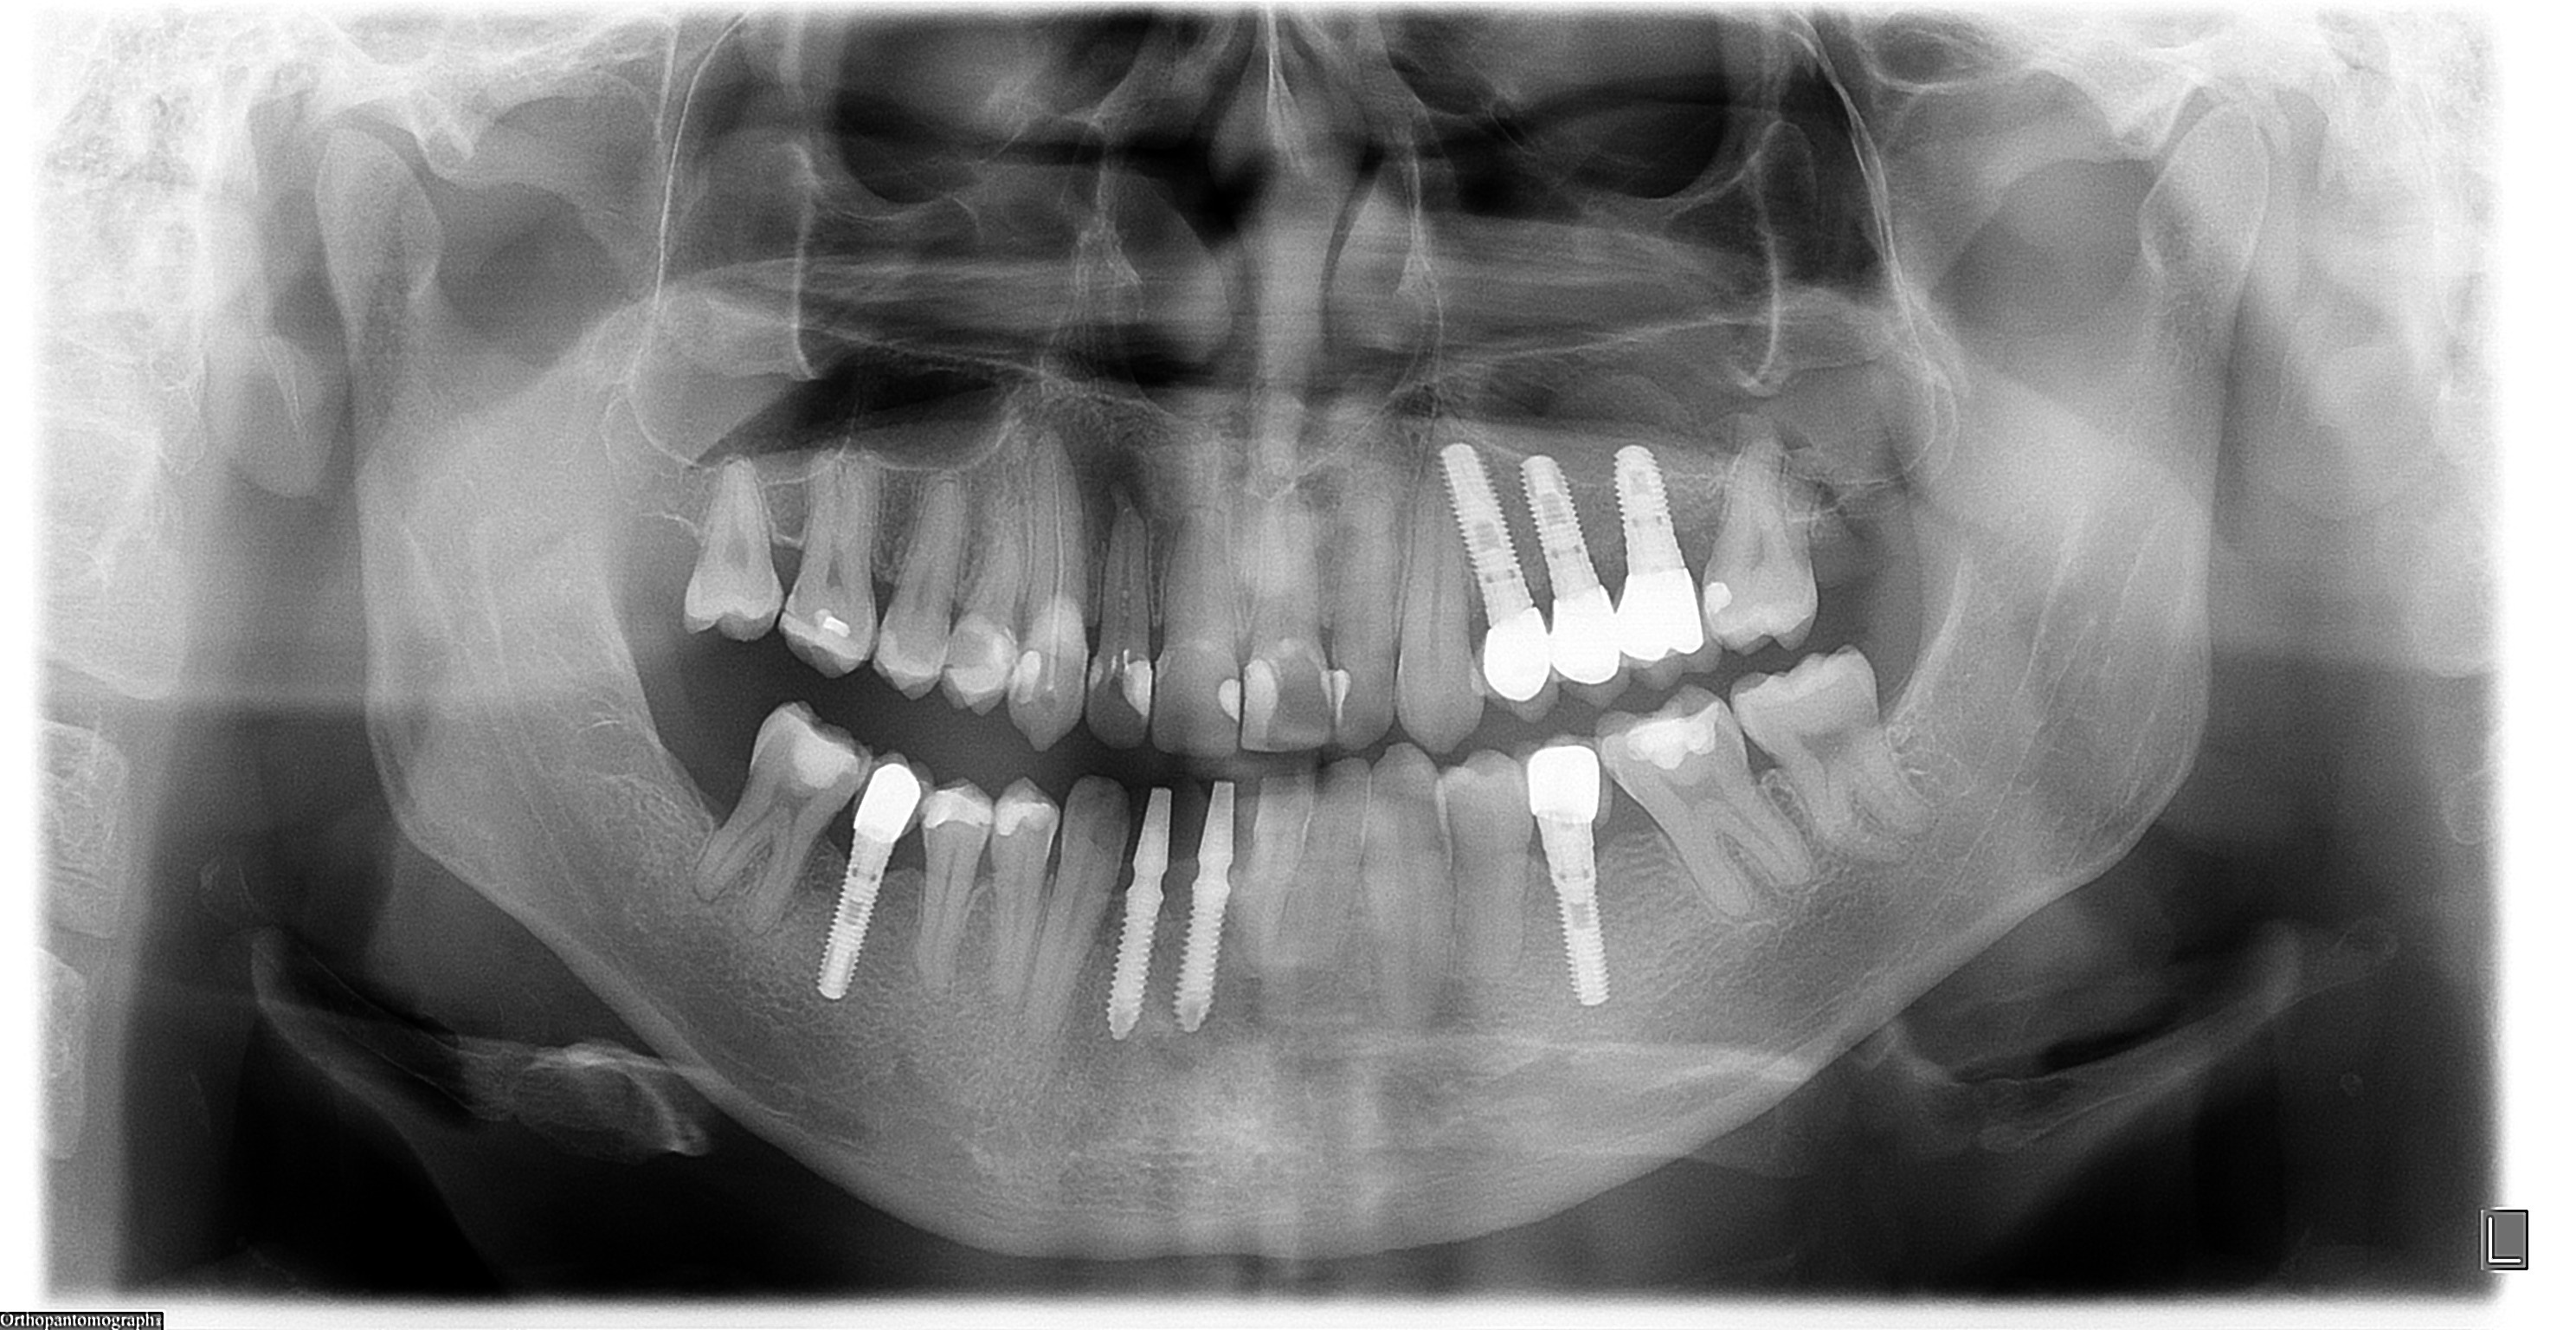END: (1034, 424, 1084, 660)
IMP: (1426, 433, 1547, 611), (1155, 858, 1253, 1053), (790, 857, 904, 1023), (1530, 843, 1633, 1018), (1094, 879, 1172, 1069), (1592, 441, 1701, 577), (1518, 439, 1603, 594)
OBT: (921, 623, 1038, 714), (780, 692, 870, 804), (1226, 645, 1309, 755), (1616, 699, 1723, 774), (914, 768, 1002, 857), (990, 780, 1060, 847), (1109, 648, 1168, 721), (997, 650, 1060, 716), (1323, 651, 1377, 723), (1204, 657, 1246, 731), (867, 619, 914, 682), (1070, 643, 1119, 702), (812, 599, 867, 648), (1691, 570, 1738, 626), (780, 584, 804, 624)
PRR: (1479, 551, 1715, 733), (1503, 726, 1611, 840), (834, 752, 938, 855)
